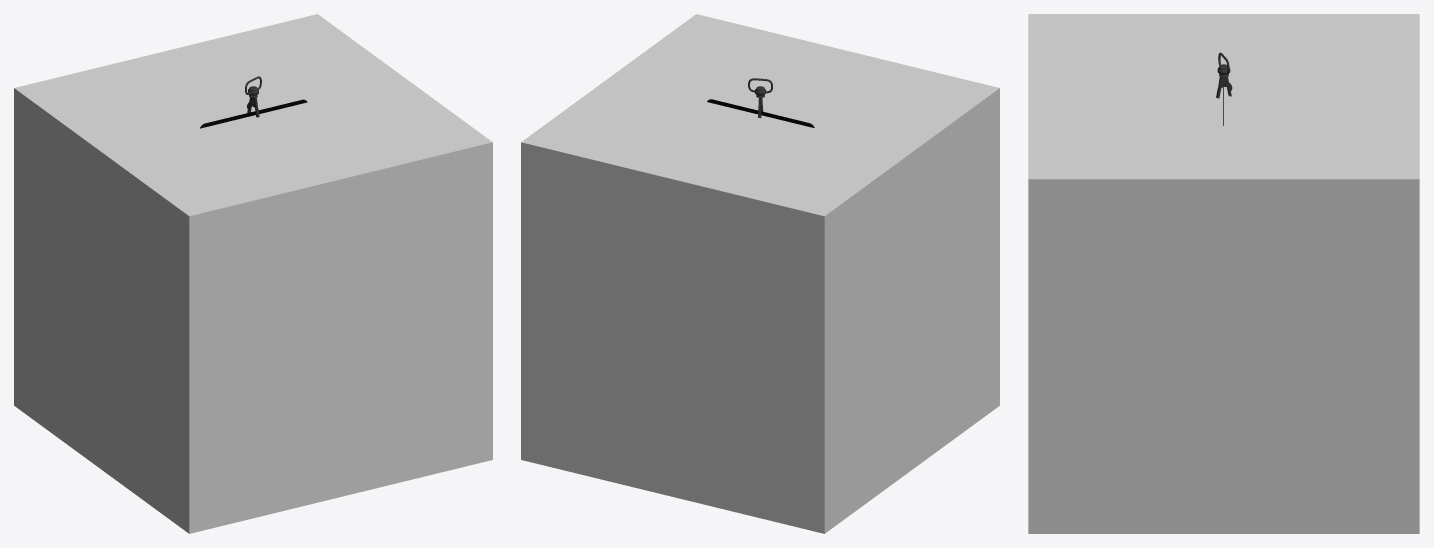
The model's file is badge.glb.
3 views of the same model, side by side, from view 1: azimuth 30°, elevation 25°; view 2: azimuth 150°, elevation 25°; view 3: azimuth 270°, elevation 25° (orthographic). The views are drawn at different scales.
Parts seen in each view (by area): view 1: Cube; view 2: Cube; view 3: Cube.
Boxes of the visible parts, left/top/right/bottom form: Cube: left=14, top=14, right=492, bottom=533; Cube: left=521, top=14, right=999, bottom=533; Cube: left=1028, top=14, right=1419, bottom=533.
Bounding box in the file's own units: 2 × 2.23 × 2.
3 materials, 1 textured.
